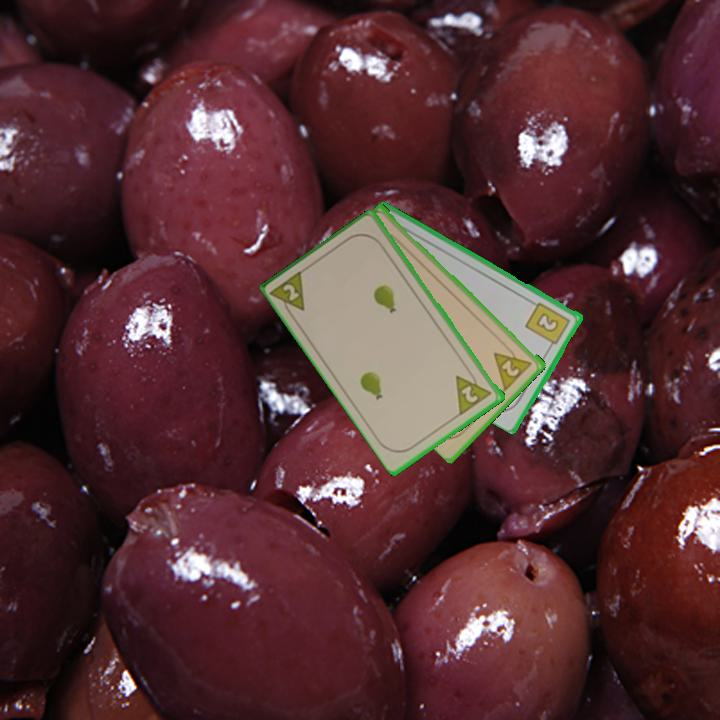2b: (522, 299, 573, 352)
2p: (490, 341, 535, 393), (268, 266, 308, 322), (452, 365, 495, 417)
